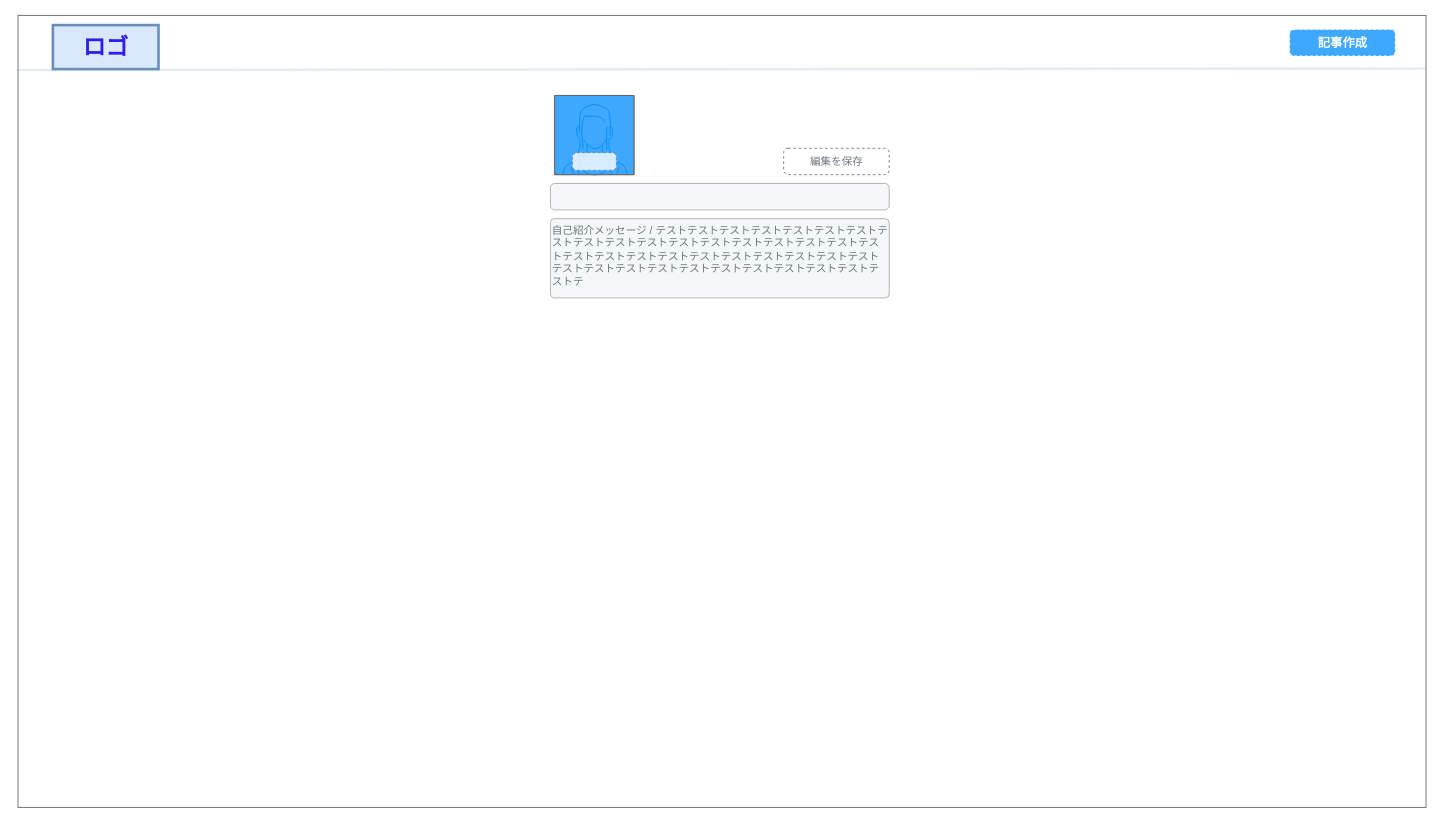
The diagram is 1443 pixels wide and 823 high, and some of its shapes have lost their labels. The box of each missing label's shape, as (x1, y1, x2, y2) in pixels:
ユーザー名 / テストテストテストテストテス: (550, 183, 889, 210)
変更する: (572, 152, 616, 170)
